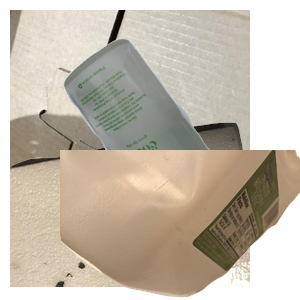cardboard: (10, 10, 250, 190)
glass: (60, 36, 300, 216)
plastic: (60, 150, 300, 300)
trash: (10, 120, 250, 300)
